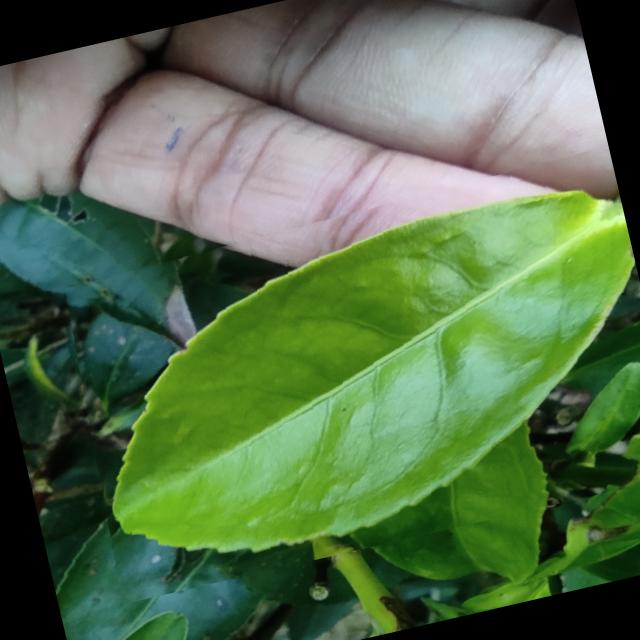Category C 4-7 days: (45, 145, 640, 604)
